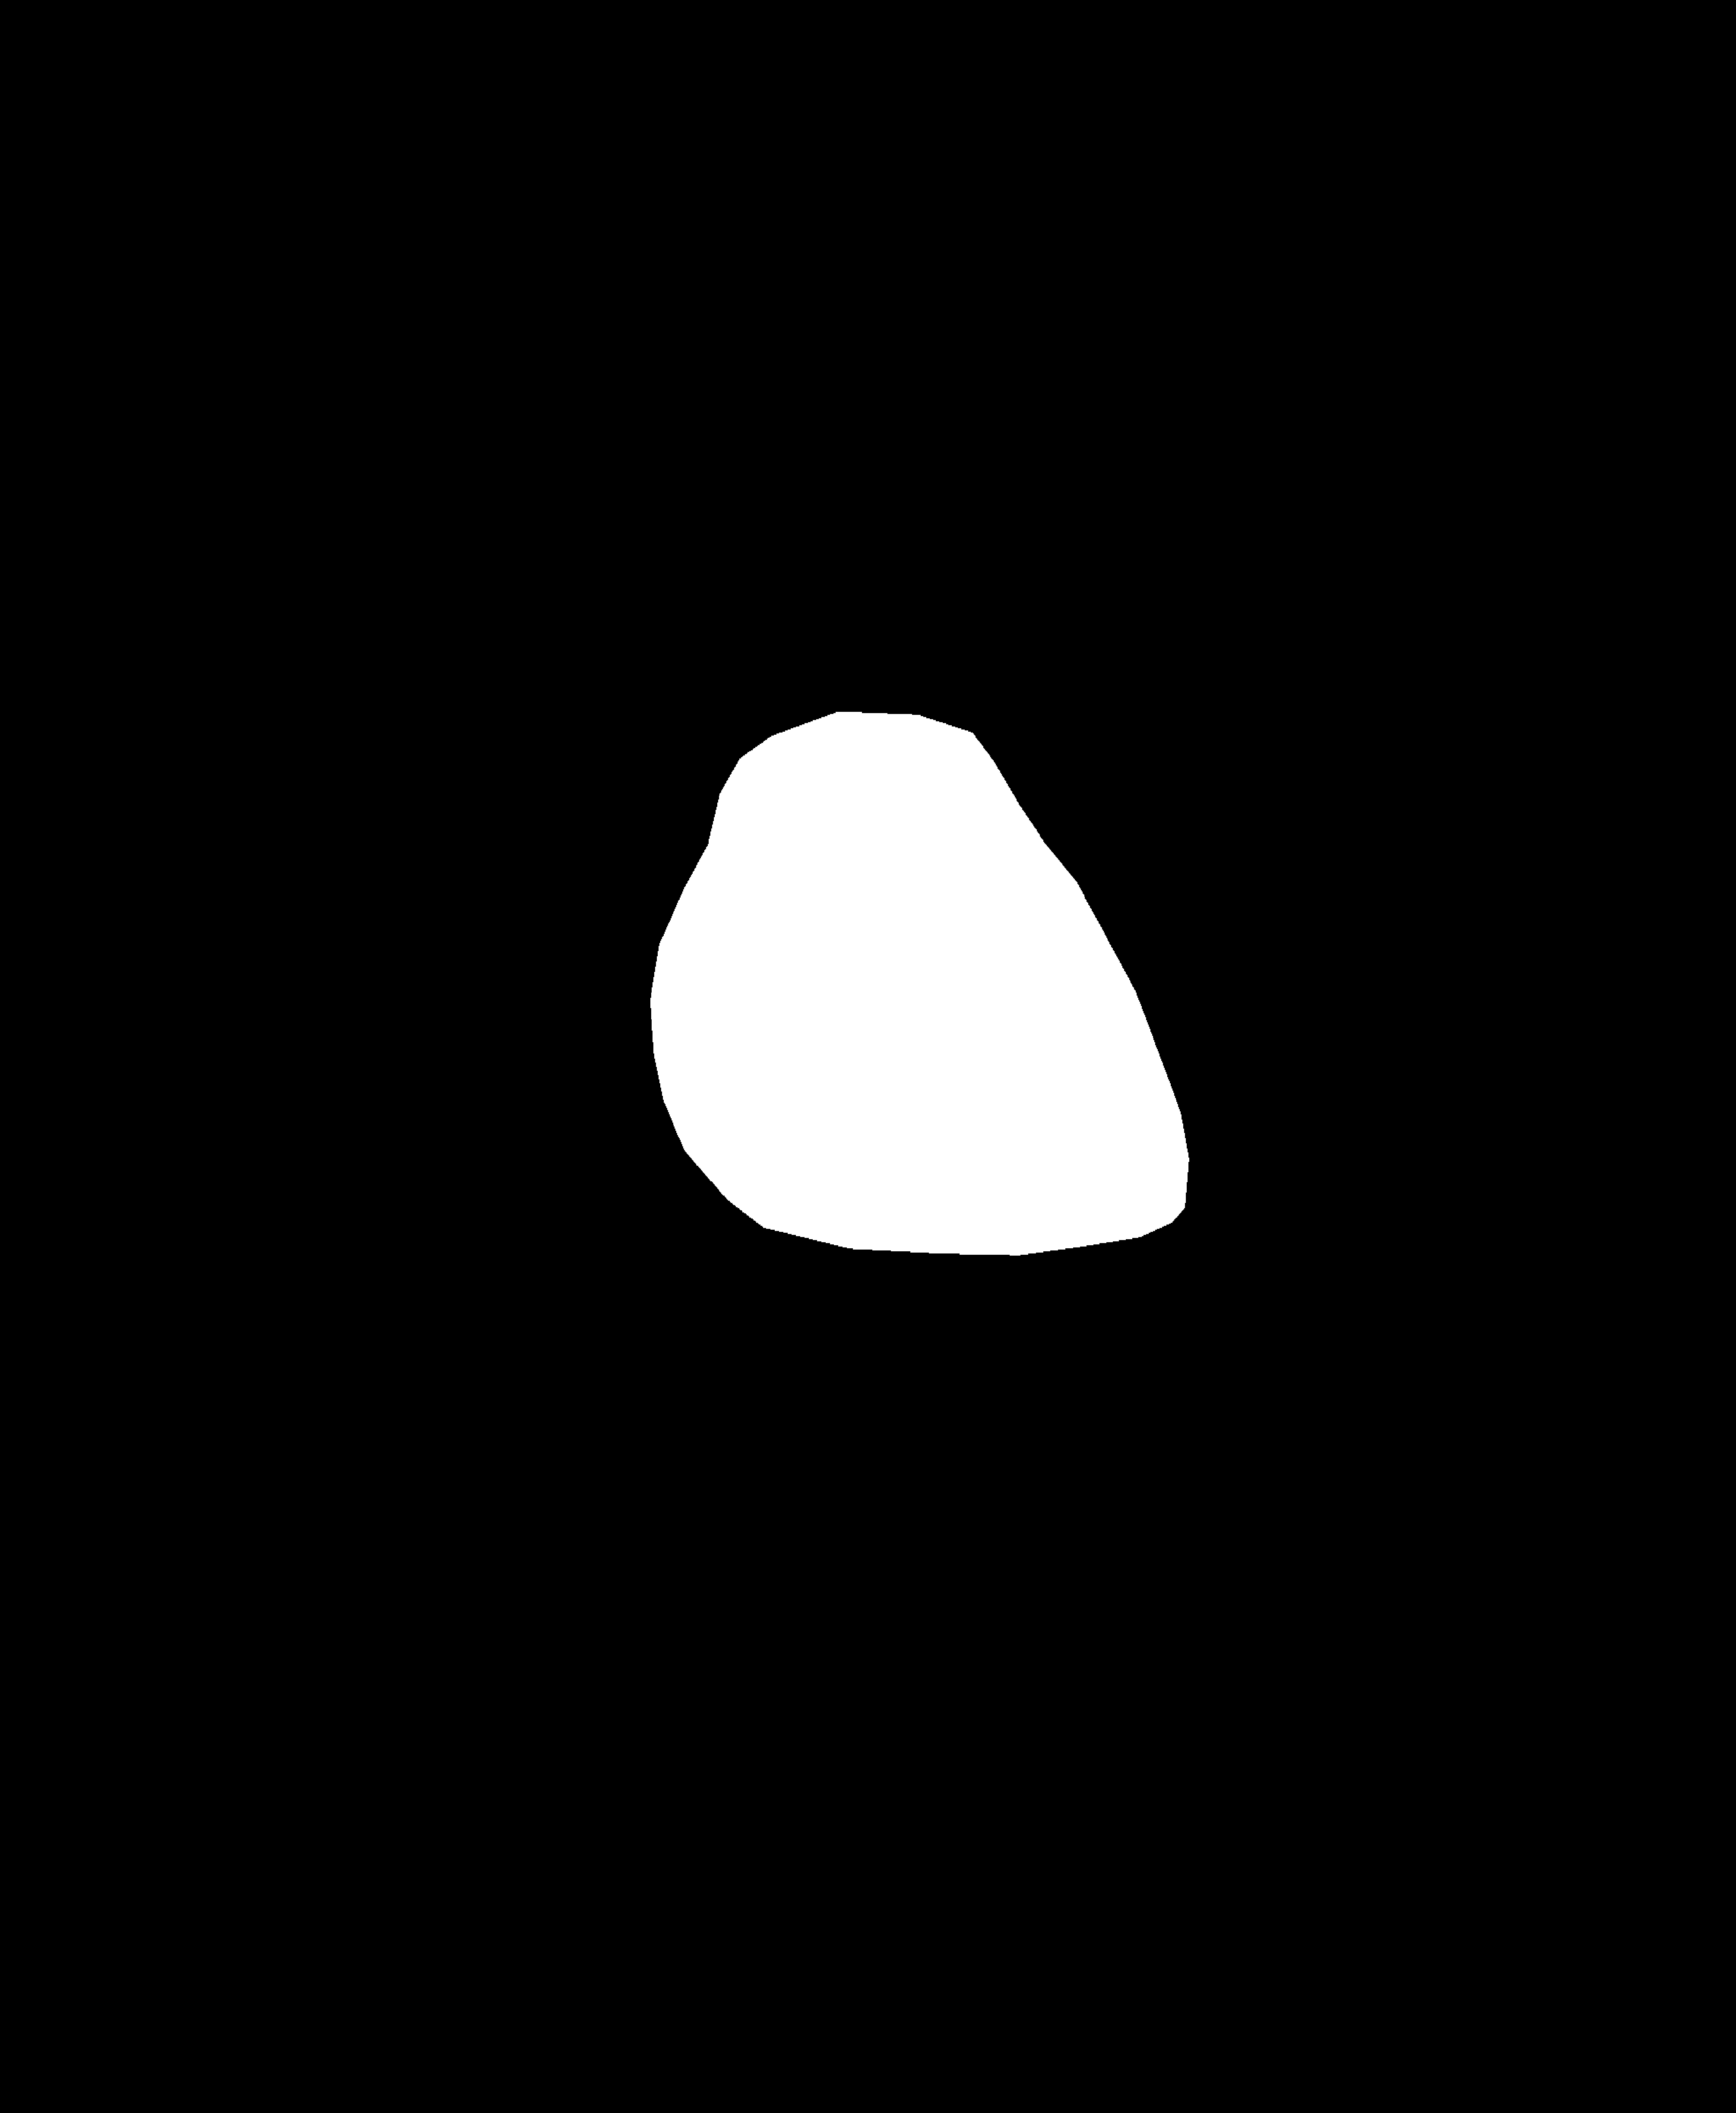heart: (648, 777, 1188, 1346)
left_lung: (77, 142, 802, 1415)
right_lung: (913, 168, 1548, 1420)
